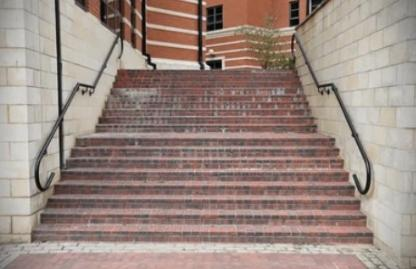stair: (93, 60, 351, 248)
